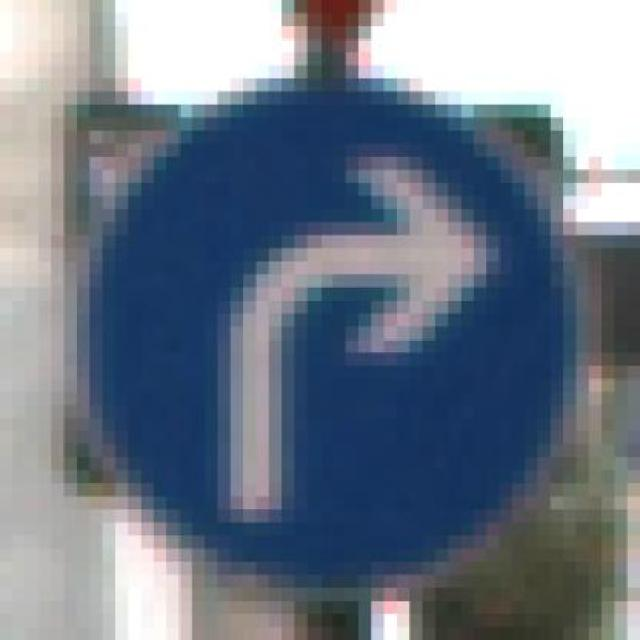Turn right ahead: (77, 65, 601, 588)
